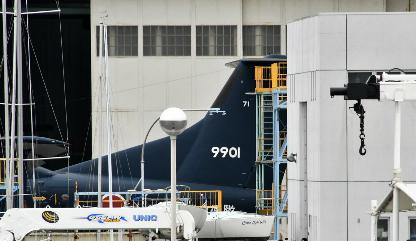Tu95: (0, 53, 286, 232)
